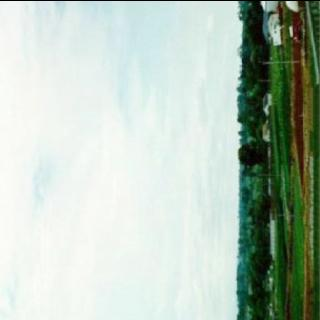Stratocumulus: (0, 0, 243, 320)
